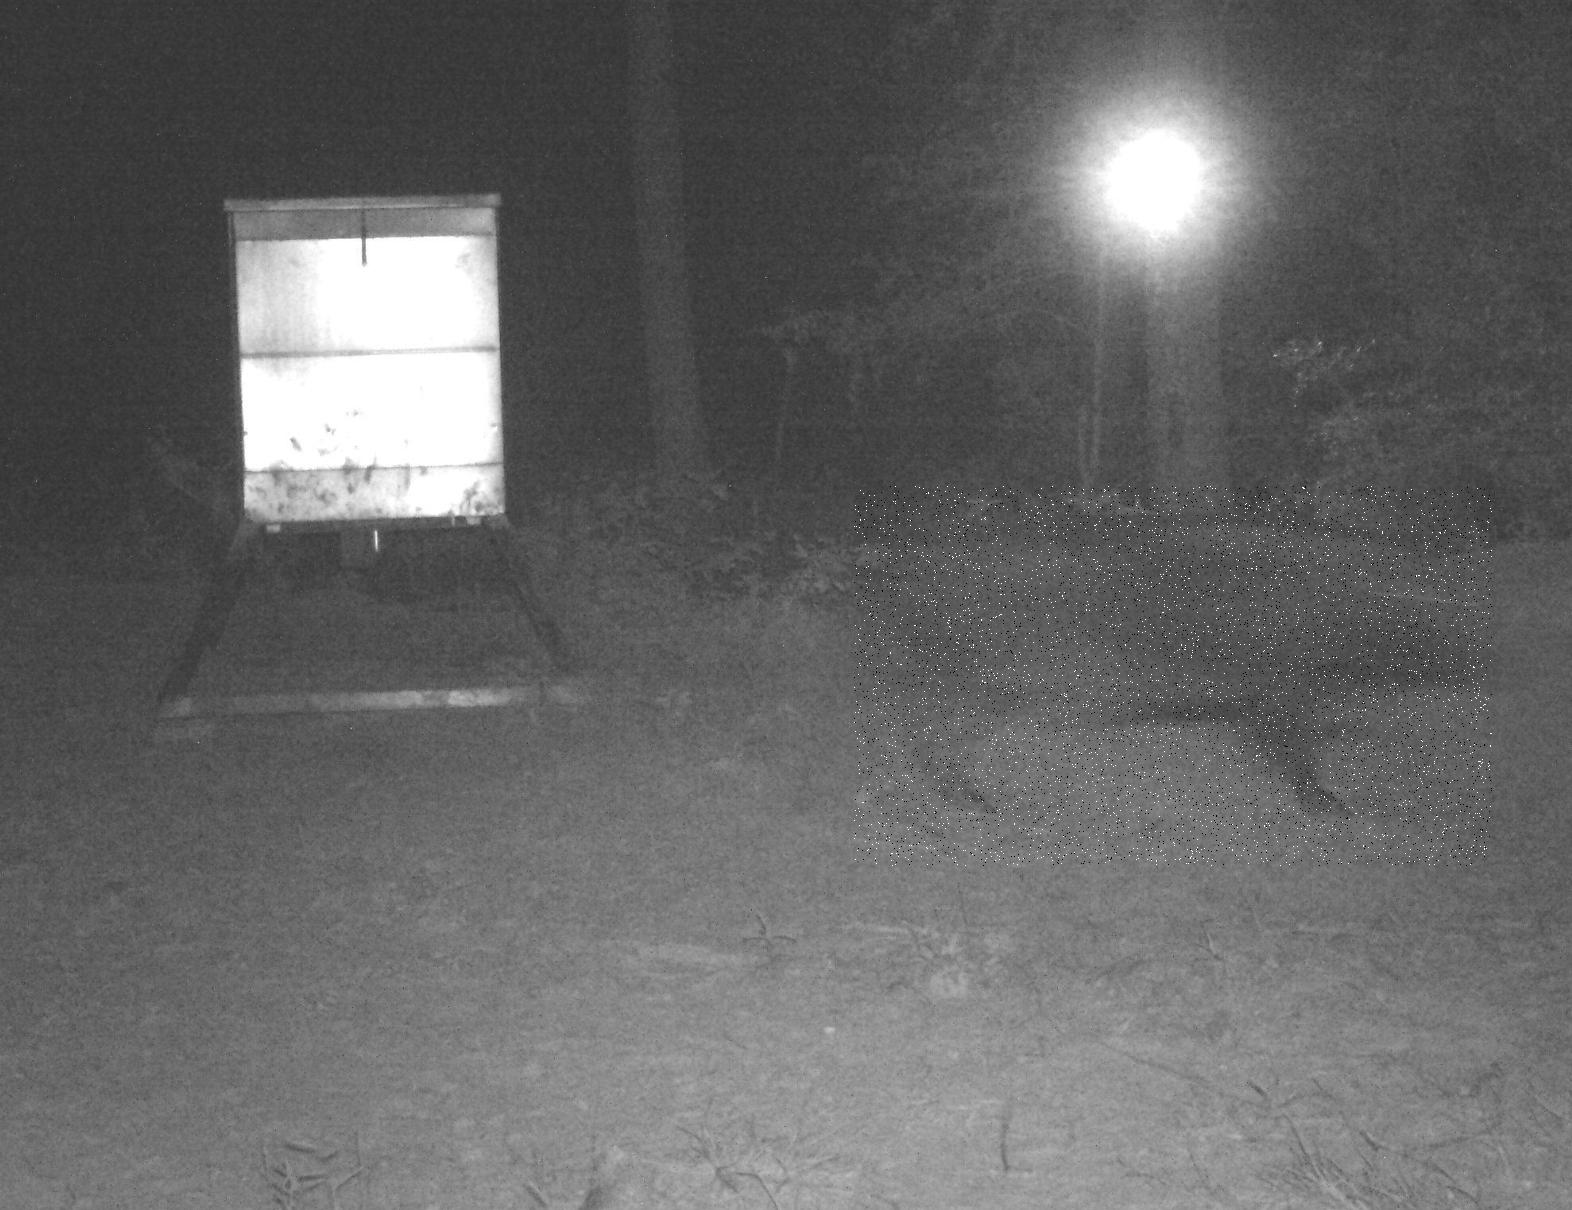Hog: (854, 486, 1492, 866)
